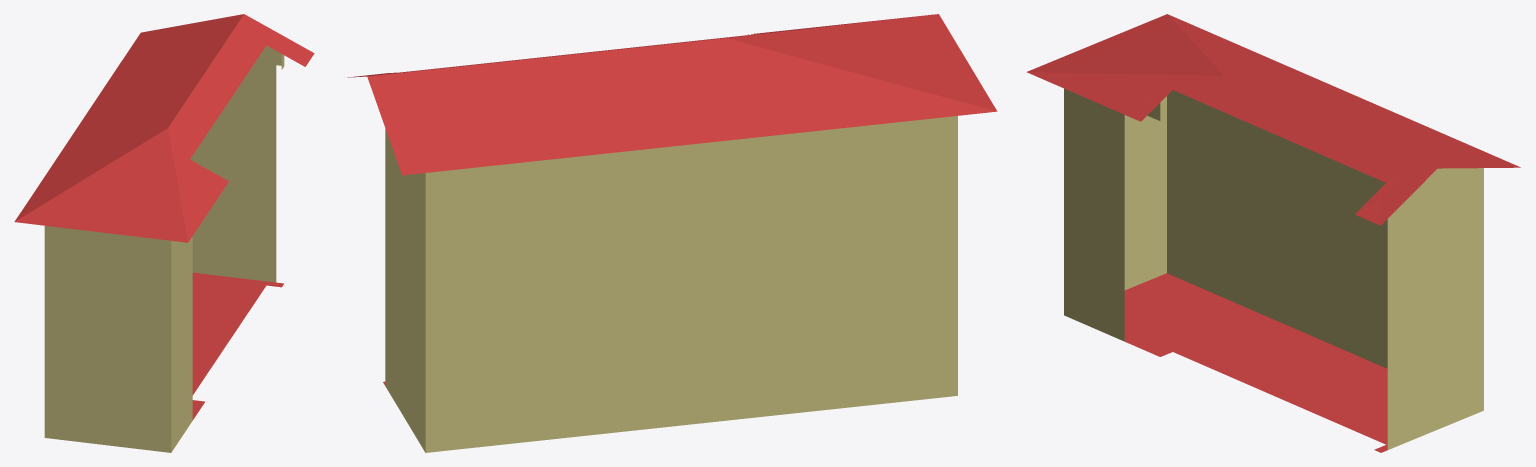
The picture shows the model from 3 angles, left to right: view 1: azimuth 30°, elevation 25°; view 2: azimuth 150°, elevation 25°; view 3: azimuth 270°, elevation 25°; orthographic projection. The views are drawn at different scales.
Visible parts, largest first — view 1: group_5, group_3, group_6; view 2: group_5, group_3; view 3: group_5, group_3, group_6.
Part boxes in pixels (bbox=[...]): group_5: bbox=[44, 45, 284, 452]; group_3: bbox=[14, 14, 314, 242]; group_6: bbox=[192, 272, 283, 420]; group_5: bbox=[385, 34, 957, 452]; group_3: bbox=[347, 14, 997, 175]; group_5: bbox=[1064, 88, 1483, 449]; group_3: bbox=[1026, 14, 1520, 225]; group_6: bbox=[1124, 273, 1387, 452].
Size of the model in its own units: 14.03 by 13.87 by 8.55.
